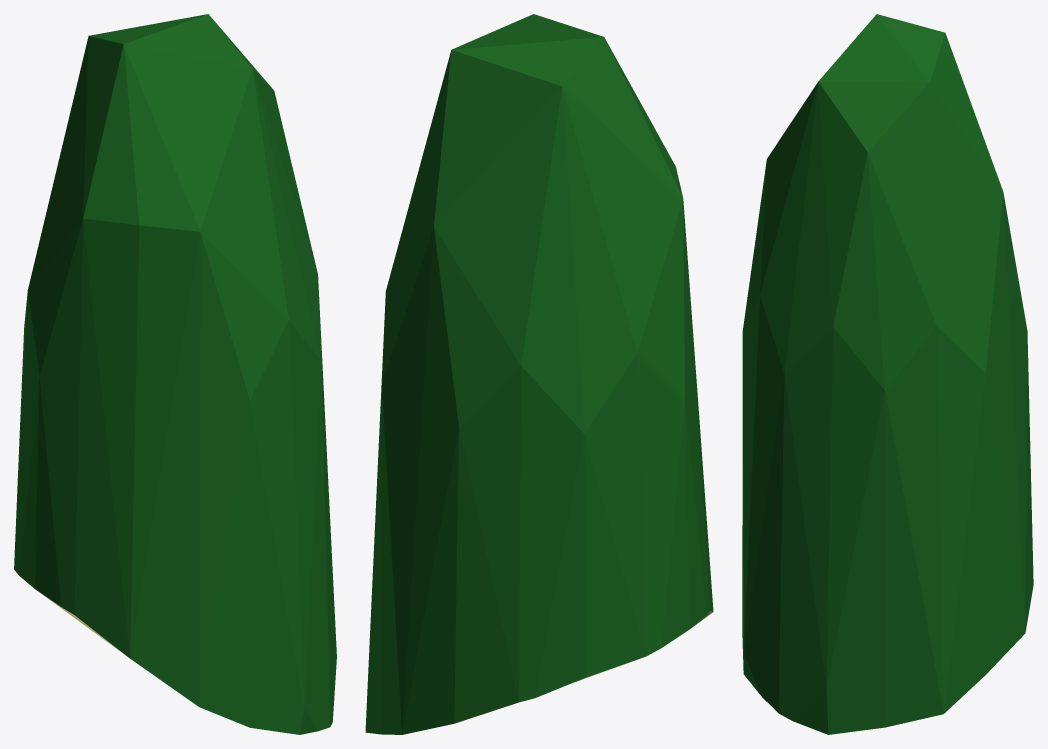
Rendered from Cucumber_1.fbx.
3 renders of one model, left to right at view 1: azimuth 30°, elevation 25°; view 2: azimuth 150°, elevation 25°; view 3: azimuth 270°, elevation 25°, orthographic. The views are drawn at different scales.
Parts seen in each view (by area): view 1: Cylinder.018; view 2: Cylinder.018; view 3: Cylinder.018.
Boxes of the visible parts, x1,y1,x2,y2 form: Cylinder.018: (14, 14, 336, 734); Cylinder.018: (365, 14, 713, 734); Cylinder.018: (742, 14, 1033, 734).
Bounding box in the file's own units: 144 × 348 × 143.
